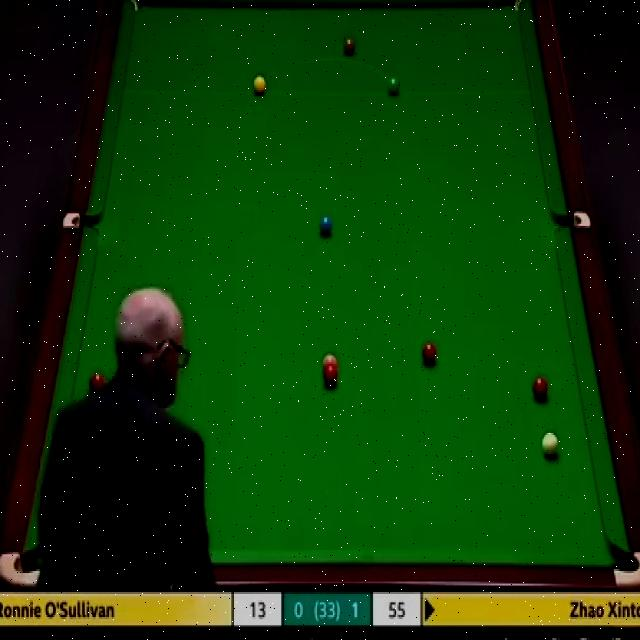blue-ball: (319, 213, 334, 237)
brown-ball: (342, 36, 356, 57)
green-ball: (386, 75, 400, 96)
pink-ball: (322, 354, 338, 368)
red-ball: (89, 370, 106, 398), (532, 374, 548, 400), (422, 343, 439, 366), (322, 365, 339, 387)
white-ball: (541, 433, 559, 459)
yellow-ball: (255, 77, 268, 97)
